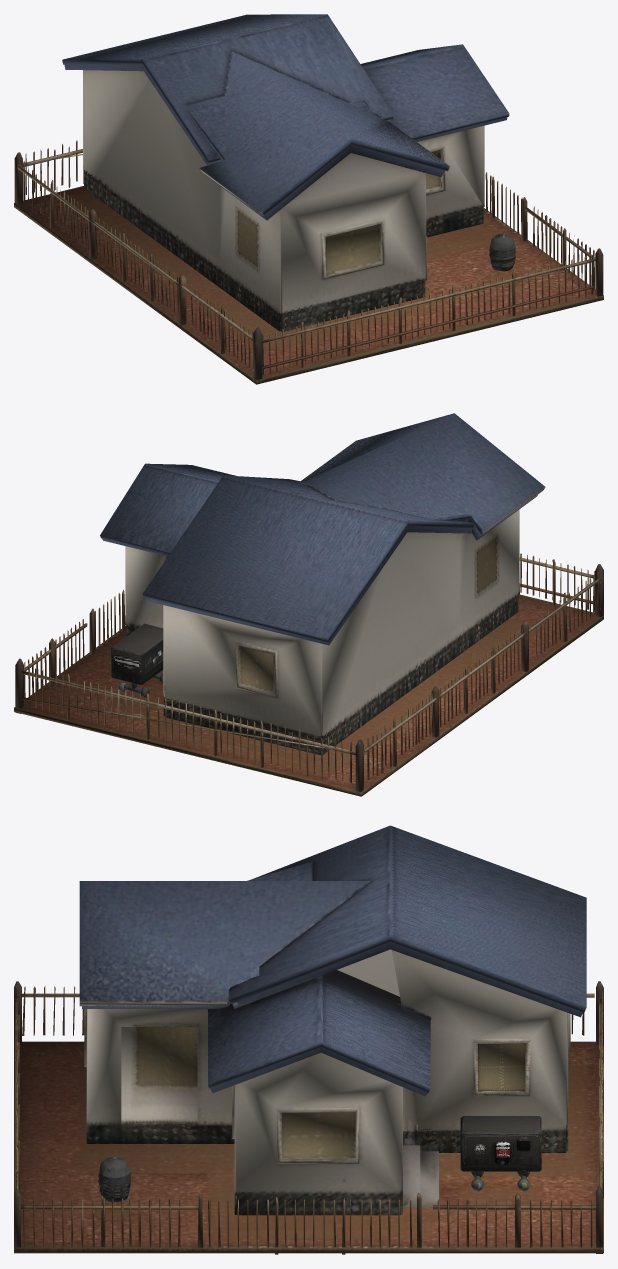
File: mini+compound+house+3d+model.glb
The picture shows the model from 3 angles, top to bottom: view 1: azimuth 30°, elevation 25°; view 2: azimuth 150°, elevation 25°; view 3: azimuth 270°, elevation 25°; orthographic projection. The views are drawn at different scales.
Visible parts, largest first — view 1: tripo_node_335f835d-c765-4df8-bb57-7f9979c24f10; view 2: tripo_node_335f835d-c765-4df8-bb57-7f9979c24f10; view 3: tripo_node_335f835d-c765-4df8-bb57-7f9979c24f10.
Boxes of the visible parts, <box> form: tripo_node_335f835d-c765-4df8-bb57-7f9979c24f10: <box>14,14,603,384</box>; tripo_node_335f835d-c765-4df8-bb57-7f9979c24f10: <box>14,413,603,796</box>; tripo_node_335f835d-c765-4df8-bb57-7f9979c24f10: <box>14,825,603,1254</box>.
Bounding box in the file's own units: 0.8262 × 0.4629 × 0.998.
Materials: 1 (1 with a texture image).
